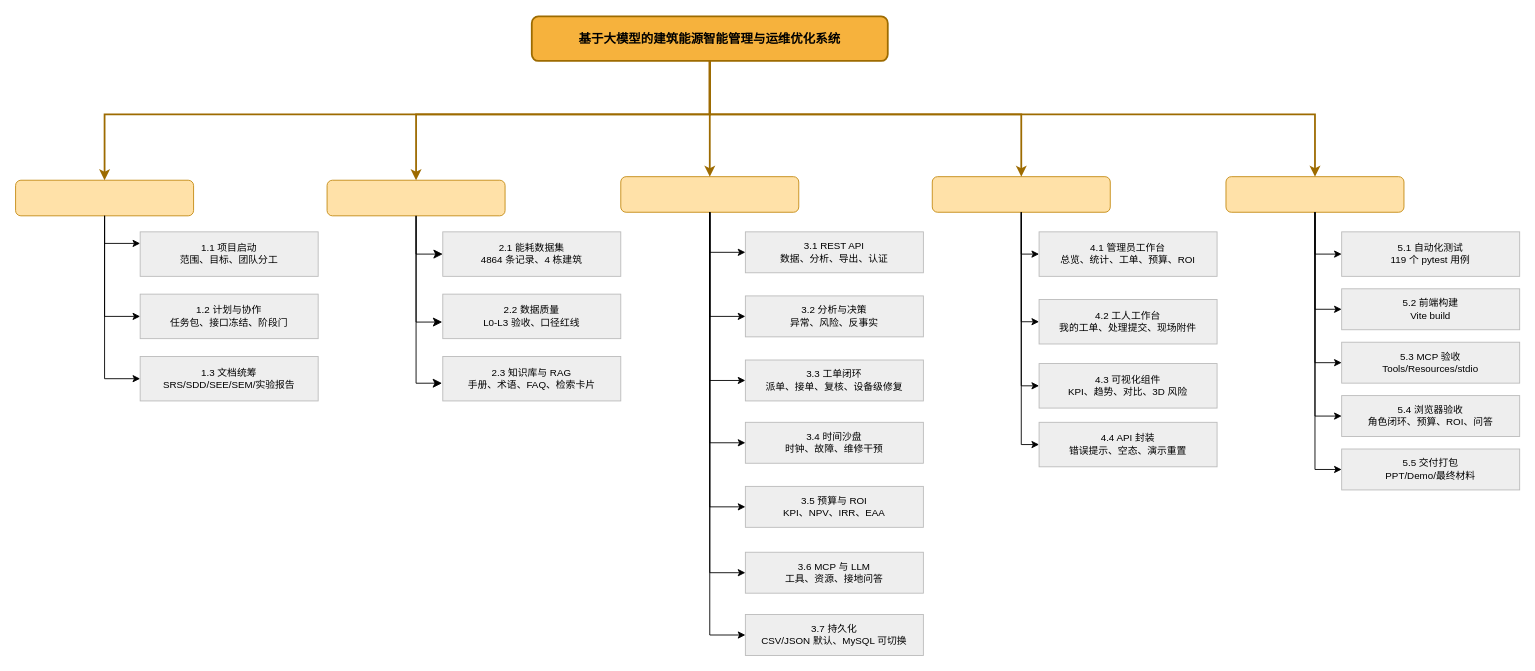
Some shapes in this 1535 by 671 pixel diagram are drawn without their labels. The shapes that lost their labels are listed below. From the top down, each one's centre as x and y in pixels, then its label:
pixel 104 197: 1.0 项目管理
pixel 415 197: 2.0 数据与知识库
pixel 709 194: 3.0 后端与业务服务
pixel 1020 194: 4.0 前端工作台
pixel 1314 194: 5.0 测试验收与交付
